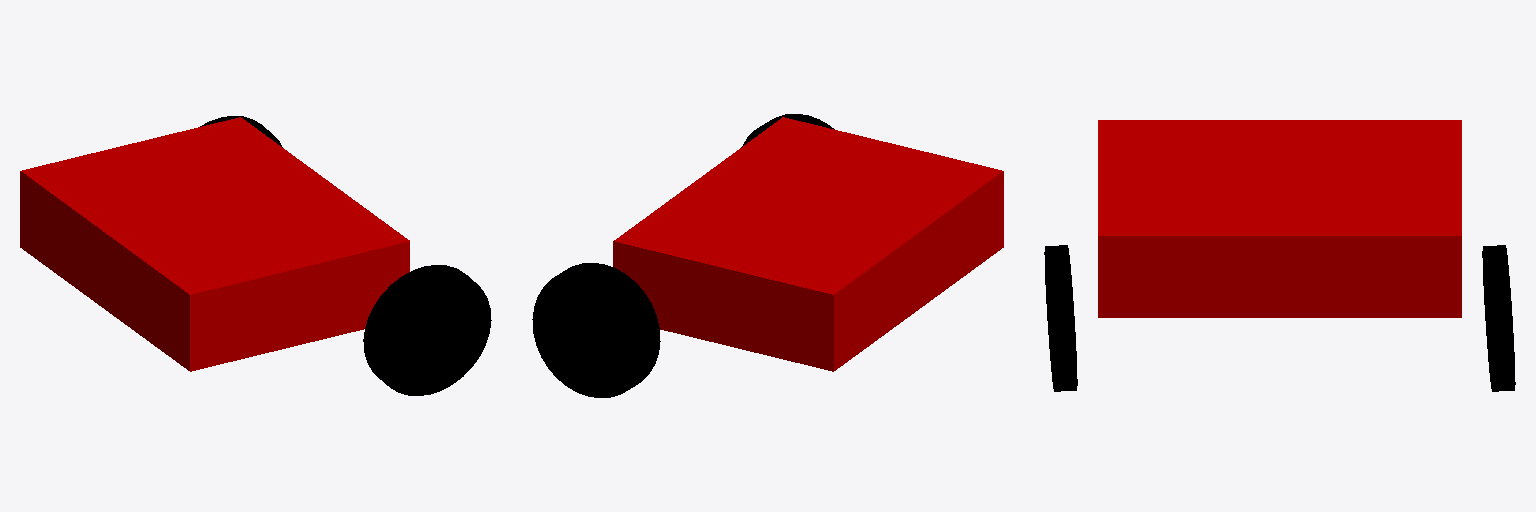
The robot description file, URDF, robot "origins":
<?xml version="1.0"?>
<robot name="origins">

    <material name="blue">
       <color rgba="0 0 0.8 1"/>
    </material>
  
    <material name="white">
      <color rgba="1 1 1 1"/>
    </material>
    <material name="red">
      <color rgba="0.8 0.0 0.0 1.0"/>
   </material>
   <material name="green">
    <color rgba="0.0 0.8 0.0 1.0"/>
  </material>

	<link name="base_link">
   		<visual>
     	 <geometry> 
       		<box size="0.3 .4 .1"/>
     	</geometry>
		<origin rpy="0 0 0" xyz="0 0 0.05"/>
			<material name="red"/>
				
   		</visual>
		<collision>
			<geometry>
       				<box size="0.3 .4 0.1"/>
			</geometry>
		</collision>
		<inertial>
			<mass value="100"/>
	 		<inertia ixx="1.0" ixy="0.0" ixz="0.0" iyy="1.0" iyz="0.0" izz="1.0"/>
		</inertial>
				
 	</link>

 	<link name="wheel_1">
   		<visual>
     			<geometry>
       				<cylinder length="0.025" radius="0.08"/>
     			</geometry>
			<origin rpy="0 1.5 1.57" xyz="0.15 0.24 0"/>
   			<material name="black">
				<color rgba="0 0 0 1"/>
			</material>
		</visual>
		<collision>
			<geometry>
       				<cylinder length="0.025" radius="0.08"/>
			</geometry>
		</collision>
		<inertial>
			<mass value="10"/>
	 		<inertia ixx="1.0" ixy="0.0" ixz="0.0" iyy="1.0" iyz="0.0" izz="1.0"/>
		</inertial>
 	</link>

 	<link name="wheel_2">
   		<visual>
     			<geometry>
       				<cylinder length="0.025" radius="0.08"/>
     			</geometry>
			<origin rpy="0 1.5 1.57" xyz="0.15 -0.24 0"/>
   			<material name="black"/>
   		</visual>
		<collision>
			<geometry>
       				<cylinder length="0.025" radius="0.08"/>
			</geometry>
		</collision>
		<inertial>
			<mass value="10"/>
	 		<inertia ixx="1.0" ixy="0.0" ixz="0.0" iyy="1.0" iyz="0.0" izz="1.0"/>
		</inertial>

 	</link>
    
 	


 	<joint name="base_to_wheel1" type="fixed">
   		<parent link="base_link"/>
   		<child link="wheel_1"/>
   		<origin xyz="0 0 0"/>
 	</joint>

 	<joint name="base_to_wheel2" type="fixed">
   		<parent link="base_link"/>
   		<child link="wheel_2"/>
   		<origin xyz="0 0 0"/>
 	</joint>

 	

</robot>

--- Facts derived from the render (not from the file) ---
3 views of the same robot in one strip: view 1: azimuth 30°, elevation 25°; view 2: azimuth 150°, elevation 25°; view 3: azimuth 270°, elevation 25° (orthographic).
Model origins with 3 links and 2 joints (2 fixed), rooted at base_link, posed every joint at zero.
Visible links, largest first — view 1: base_link, wheel_2; view 2: base_link, wheel_1; view 3: base_link, wheel_1, wheel_2.
Link boxes in pixels (x1,y1,x2,y2): base_link: [20, 117, 409, 371]; wheel_2: [363, 265, 491, 395]; base_link: [613, 117, 1003, 371]; wheel_1: [532, 263, 660, 397]; base_link: [1098, 120, 1461, 317]; wheel_1: [1482, 245, 1515, 391]; wheel_2: [1044, 245, 1077, 391].
Size in the robot's own frame: 0.38 by 0.5163 by 0.1807 metres.
Geometry: primitives only (box / cylinder / sphere), no mesh files.
